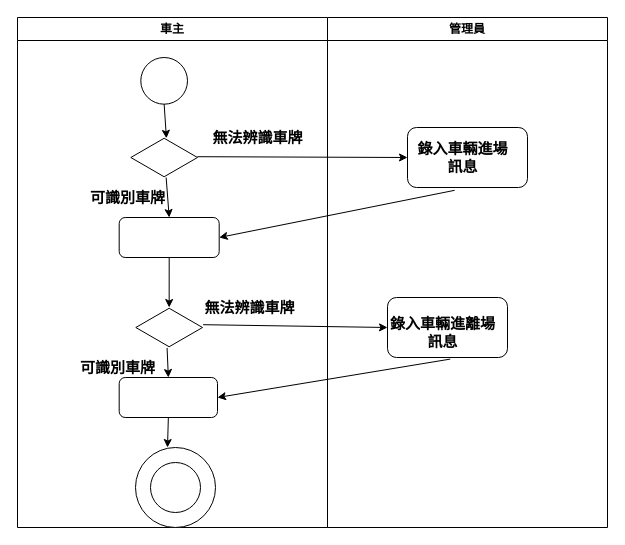
This 625x545 diagram has some shape labels left out. Each missing label, with the centre of its shape:
入場: the point at 168,237
離場: the point at 168,397
